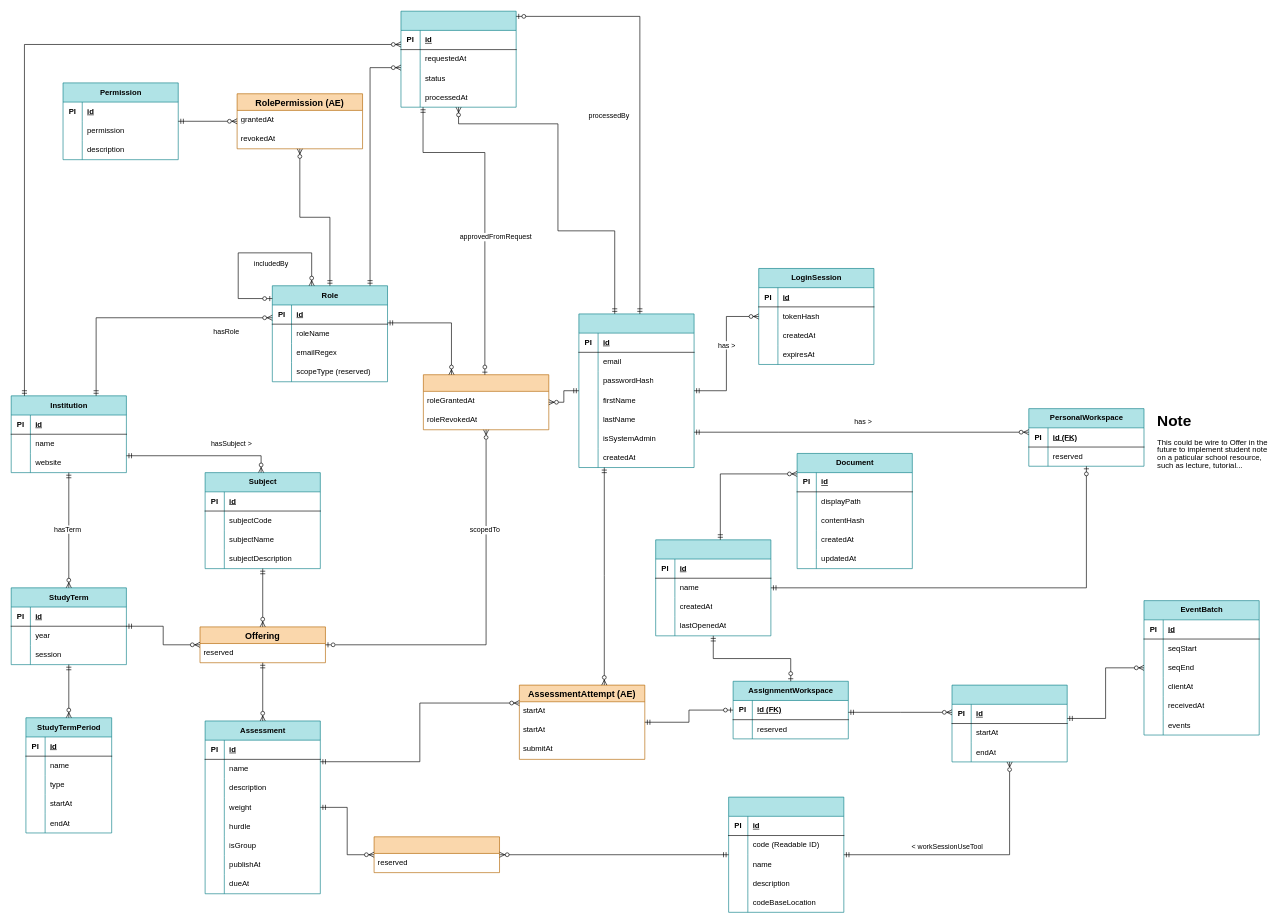
This 1283x924 diagram has some shape labels left out. The box of each missing label's shape, as (x1, y1, x2, y2) in pixels:
AssessmentAllowTool: (373, 836, 500, 873)
AssignmentWorkSession: (951, 684, 1067, 762)
RoleAssignment (AE): (423, 374, 549, 430)
RoleRequest: (400, 11, 516, 107)
Tool: (728, 796, 844, 912)
User: (578, 313, 694, 468)
Workspace: (655, 539, 771, 636)
